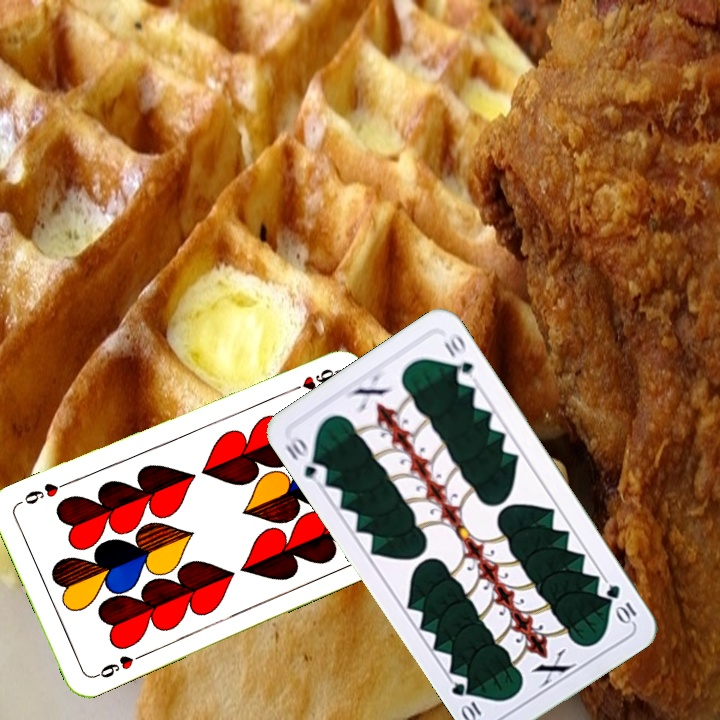G10: (281, 433, 330, 487), (602, 580, 639, 627)
H9: (281, 364, 338, 396), (89, 650, 145, 681)
